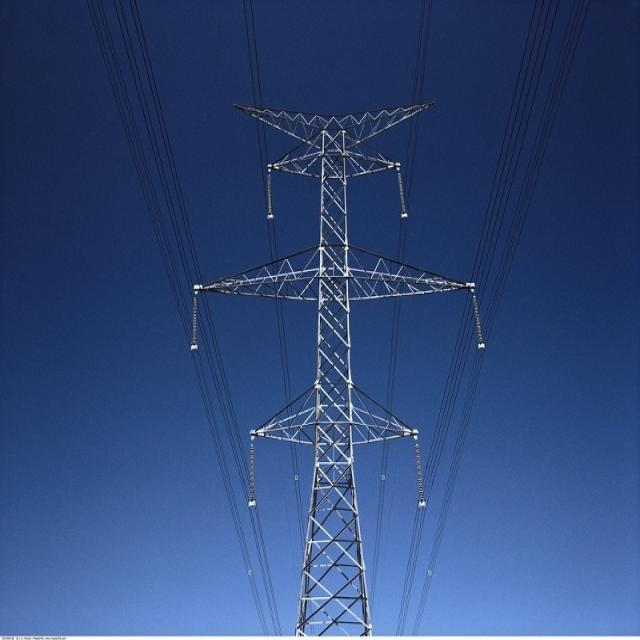non-critical vegetation: (197, 88, 476, 632)
